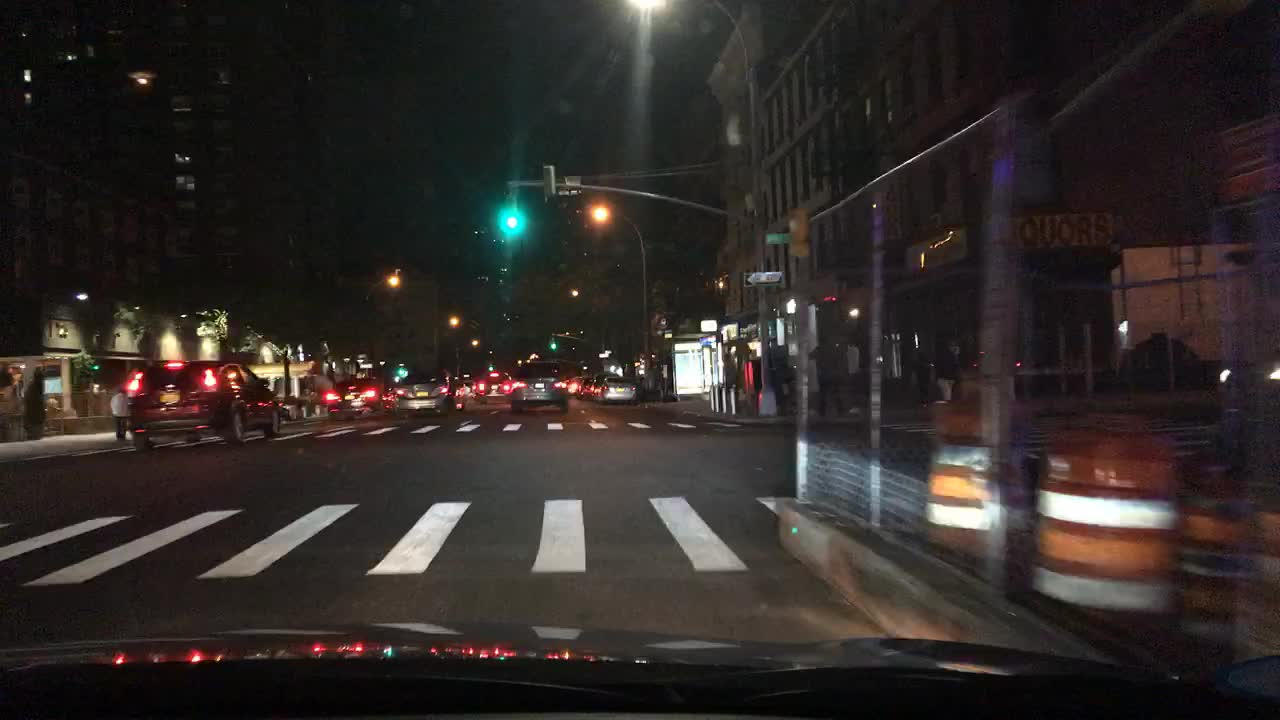car: (126, 356, 281, 447), (1219, 355, 1278, 436), (398, 369, 471, 416), (511, 360, 570, 414), (324, 380, 385, 422), (476, 371, 511, 406), (596, 376, 636, 406), (582, 378, 598, 401), (563, 376, 577, 398), (396, 366, 409, 379)
person: (804, 336, 853, 419), (764, 335, 796, 414), (22, 369, 48, 439), (937, 345, 959, 406), (910, 346, 930, 405), (111, 385, 131, 442)
traffic light: (496, 202, 526, 243), (549, 341, 560, 351)
traffic sign: (746, 272, 786, 290), (762, 232, 794, 247), (699, 319, 716, 333)
